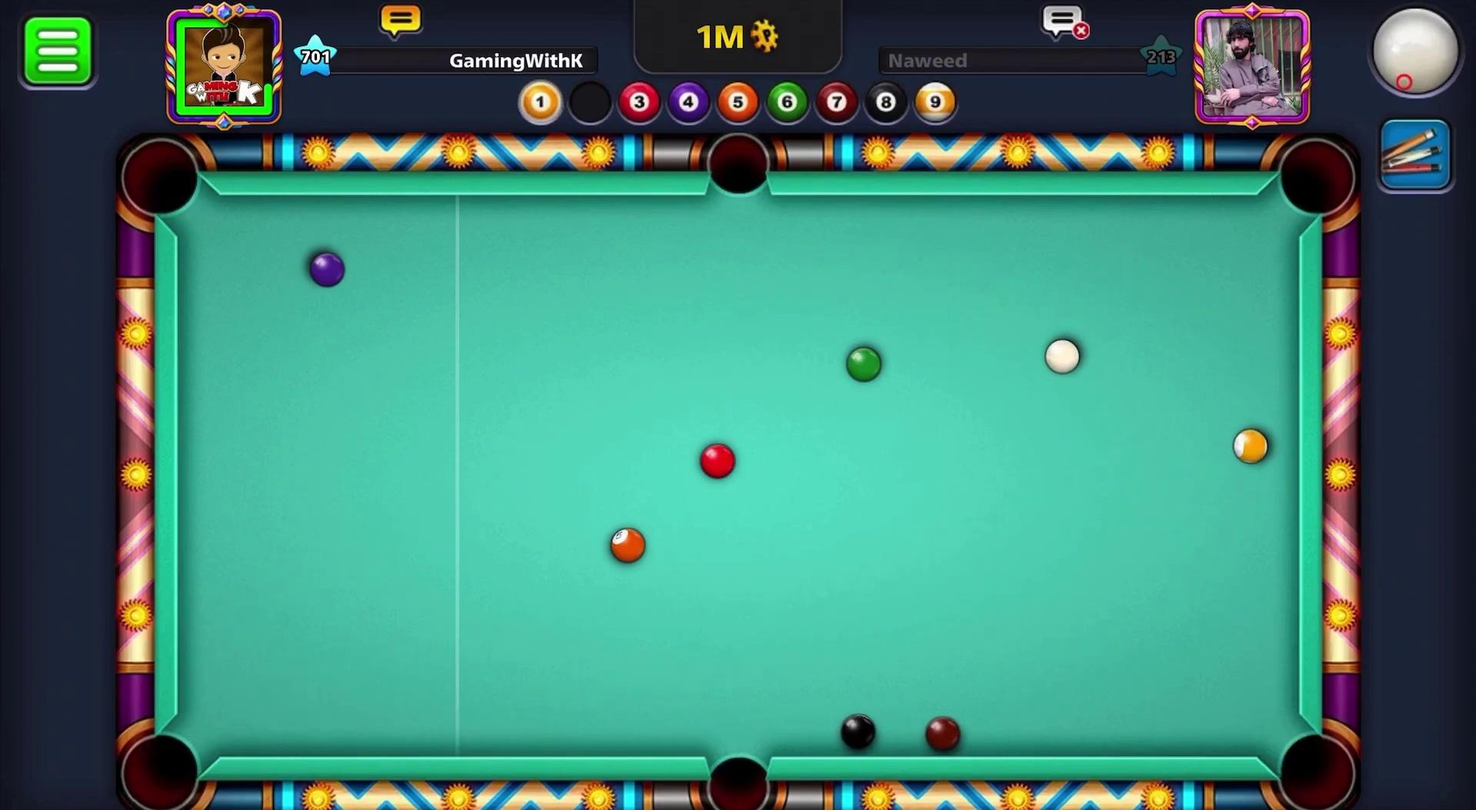Ball: (827, 709, 880, 753), (602, 524, 651, 569), (1229, 420, 1273, 470), (305, 248, 351, 294), (842, 340, 885, 387), (921, 712, 969, 754), (695, 440, 738, 483)
Hole: (109, 124, 222, 237), (1267, 129, 1366, 231), (1262, 715, 1366, 809), (111, 720, 211, 809), (684, 739, 787, 809), (698, 123, 781, 206)
Play_Area: (177, 194, 1296, 761)
Spin: (1346, 0, 1475, 119)
White: (1040, 332, 1088, 377)
